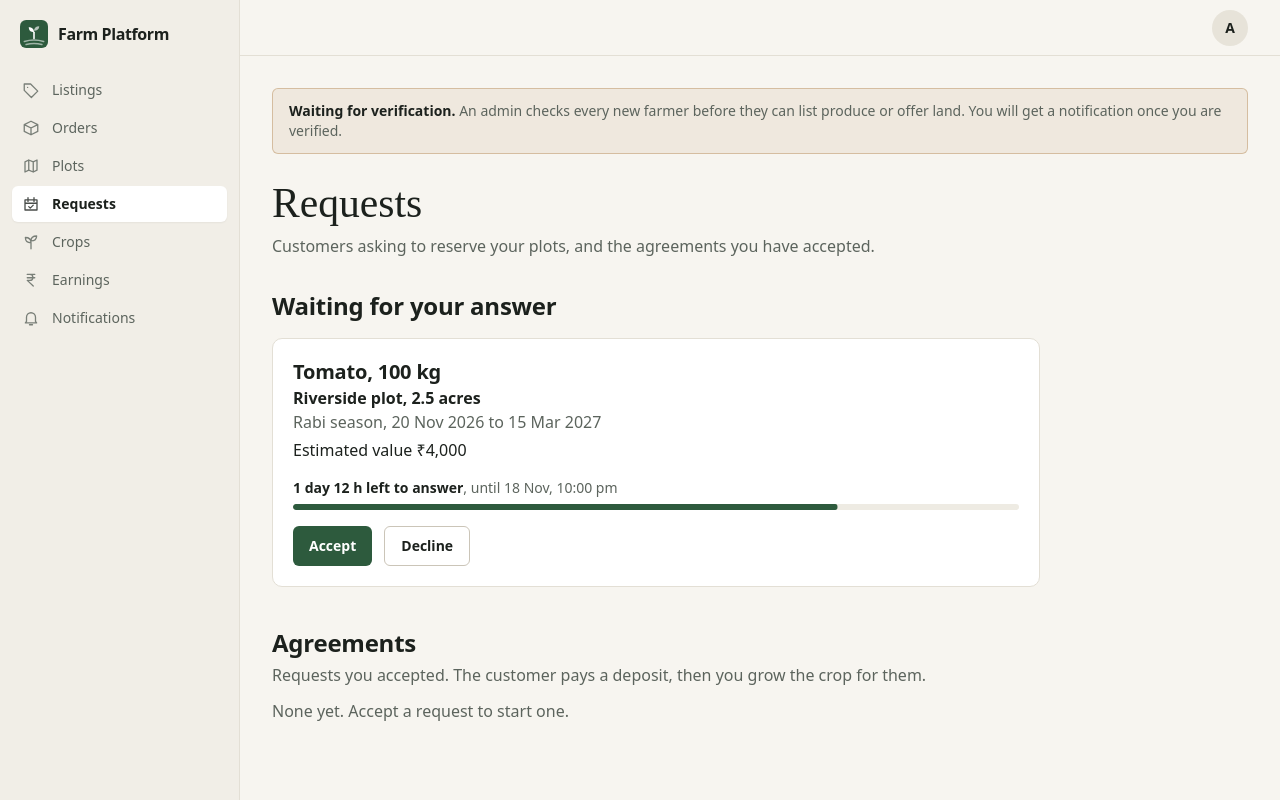
Scenario: farmer reservation requests › shows a pending request with its plot, season and time left, and accepts it
This screenshot has width=1280, height=800.
Expected: the heading "Tomato, 100 kg" is shown, [293,358,441,385]
Expected: the text "Riverside plot, 2.5 acres" is shown, [293,387,481,409]
Click the button "Accept": (333, 546) [293,526,372,566]
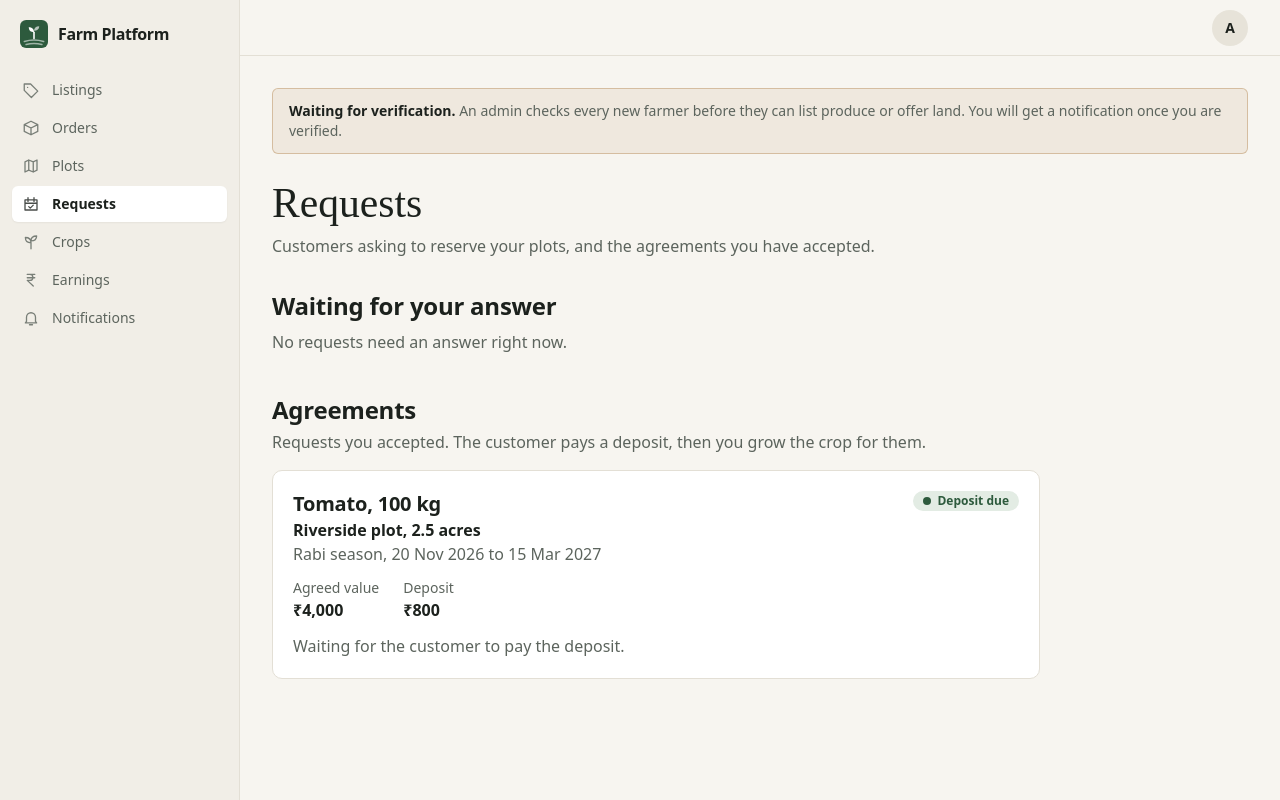
Result: the text "Deposit due" is shown at [914,491,1019,511]
Result: the text "₹800" is shown at [403,599,440,621]
Result: the text "No requests need an answer right now." is shown at [272,331,567,353]
